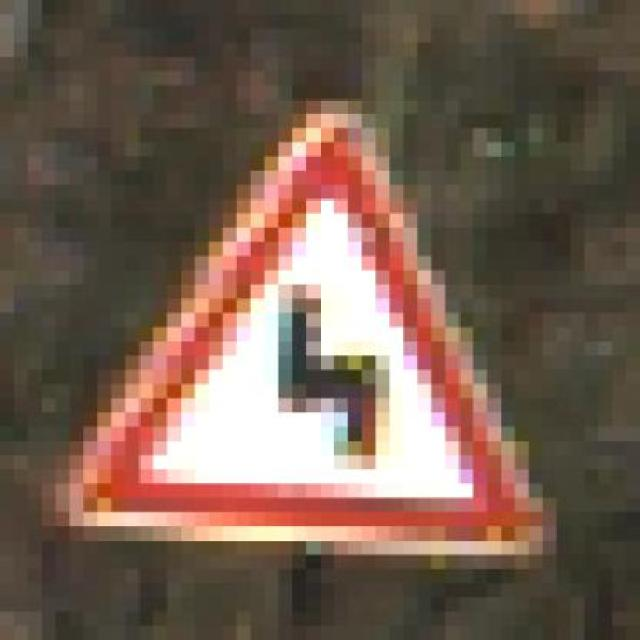Left Zig Zag Traffic: (69, 56, 571, 598)
